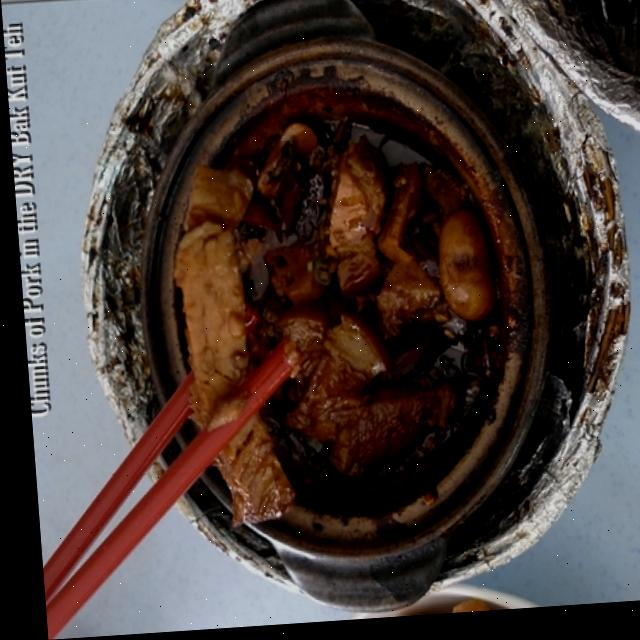汤锅炖物: (86, 2, 584, 612)
